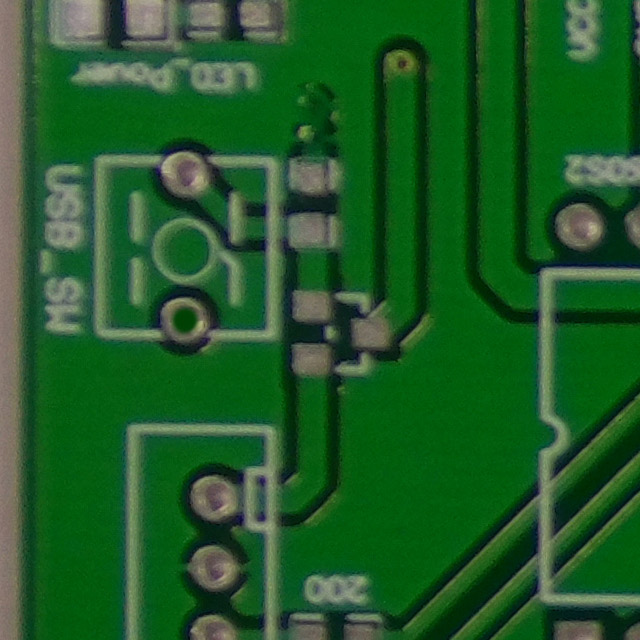missing_hole: (145, 286, 220, 355)
